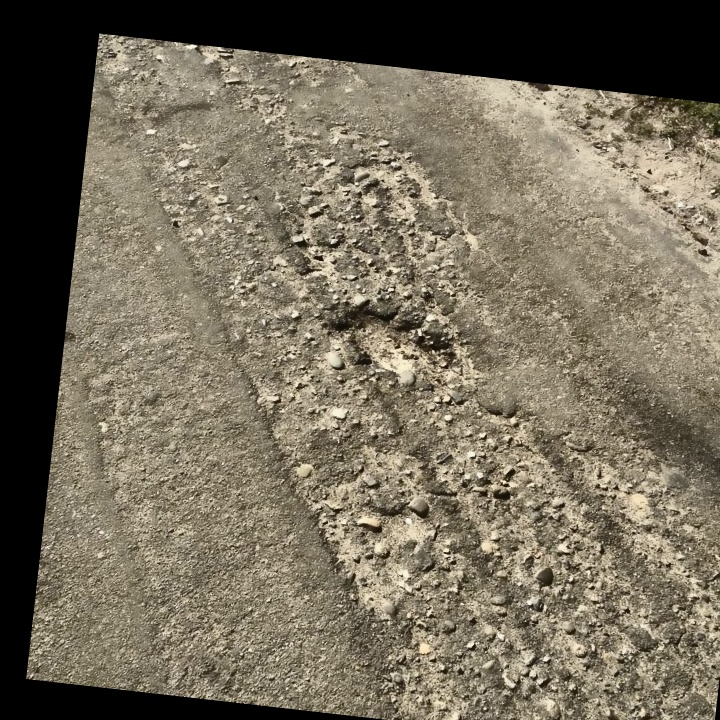pothole: (327, 300, 453, 381)
